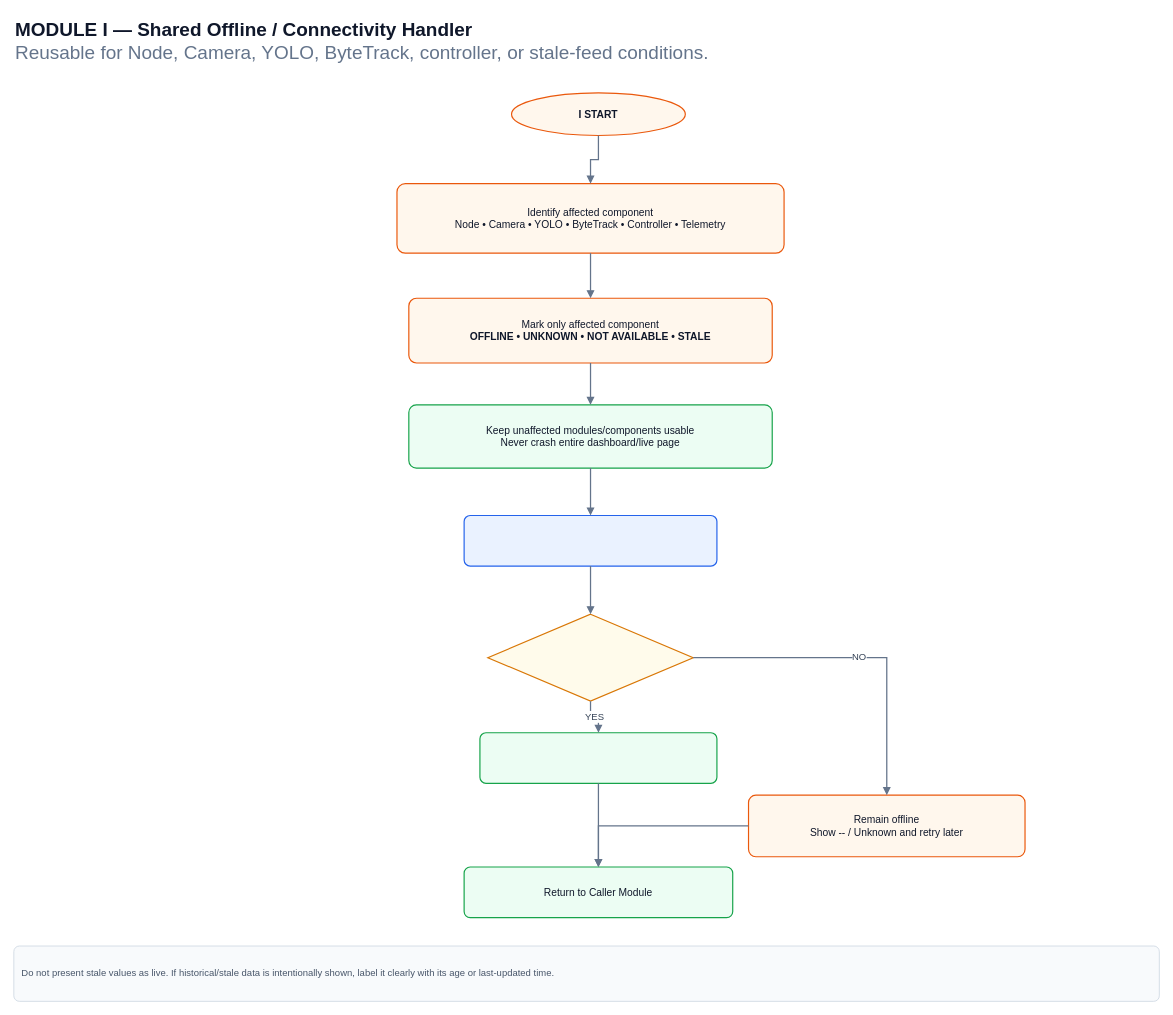
Some shapes in this 1173 by 1015 pixel diagram are drawn without their labels. The shapes that lost their labels are listed below. From the top down, each one's centre as x and y in pixels, then its label:
At pixel 590 540: "Attempt reconnect at safe interval".
At pixel 590 657: "Reconnect successful?".
At pixel 598 758: "Resume live/current data".
